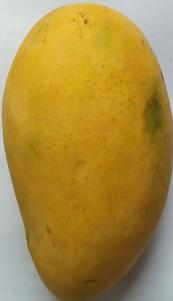Ripe: (0, 1, 173, 301)
